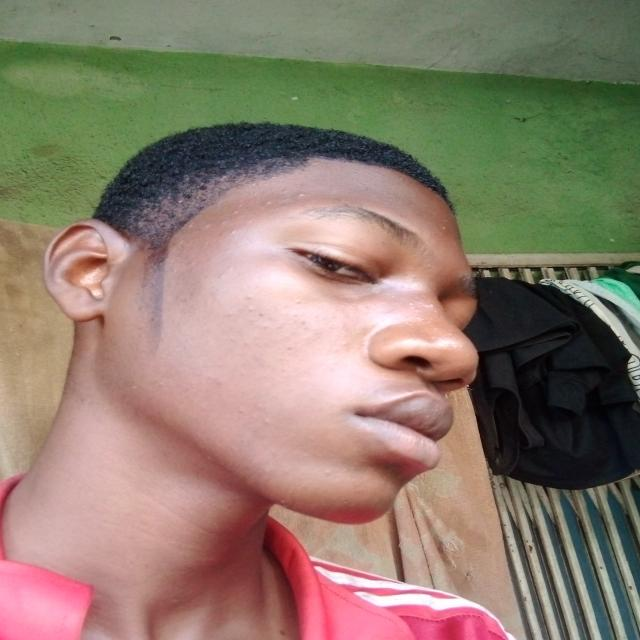Acne: (228, 334, 300, 353), (410, 296, 438, 324), (239, 293, 266, 321), (216, 202, 244, 226), (254, 399, 274, 428), (290, 298, 306, 330), (301, 331, 324, 346), (255, 316, 283, 328), (262, 301, 286, 314), (347, 302, 373, 313), (326, 310, 339, 331), (216, 264, 233, 279), (319, 467, 340, 479), (276, 354, 288, 375), (438, 212, 448, 234), (261, 198, 278, 208), (292, 190, 308, 200), (224, 309, 238, 320), (238, 405, 252, 415), (338, 338, 352, 347), (185, 258, 197, 268), (244, 217, 258, 225), (204, 222, 214, 229), (228, 230, 239, 236), (187, 222, 195, 230)
